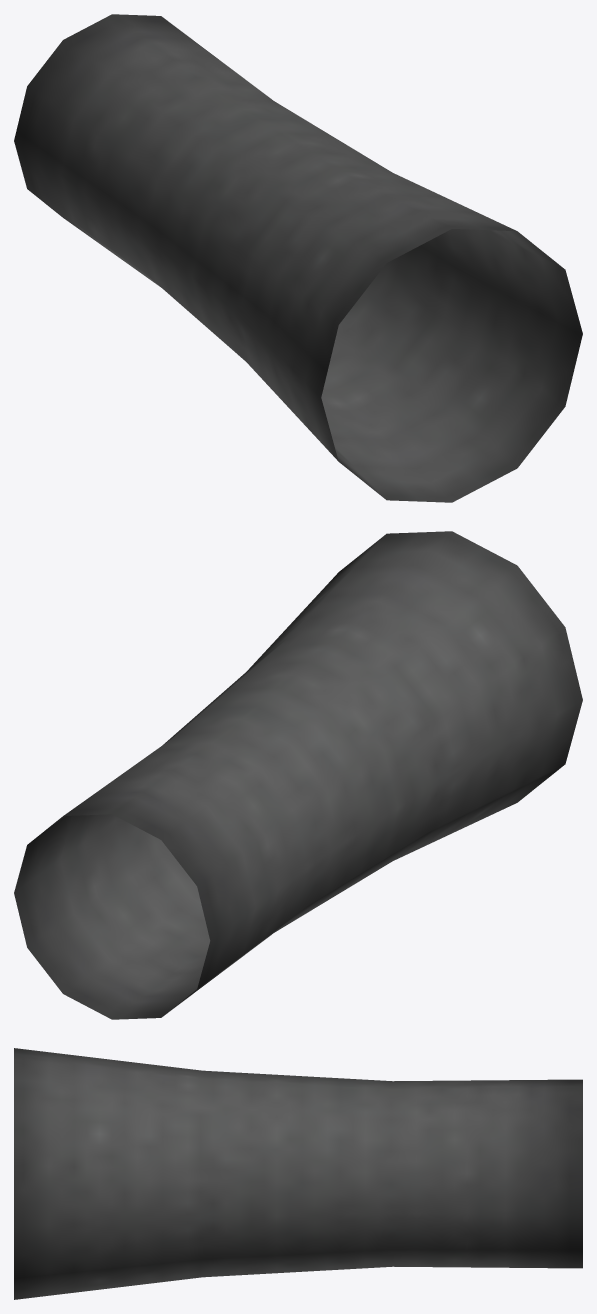
File: octans_periscope_srf_1_arm.obj
3 renders of one model, top to bottom at view 1: azimuth 30°, elevation 25°; view 2: azimuth 150°, elevation 25°; view 3: azimuth 270°, elevation 25°, orthographic. The views are drawn at different scales.
Visible parts, largest first — view 1: mesh; view 2: mesh; view 3: mesh.
Part boxes in pixels (box(x1,y1,x2,y2)): mesh: box(14, 14, 582, 502); mesh: box(14, 531, 582, 1019); mesh: box(14, 1048, 582, 1299).
Size of the model in its own units: 0.1 by 0.1 by 0.225.
Materials: 1 (1 with a texture image).
